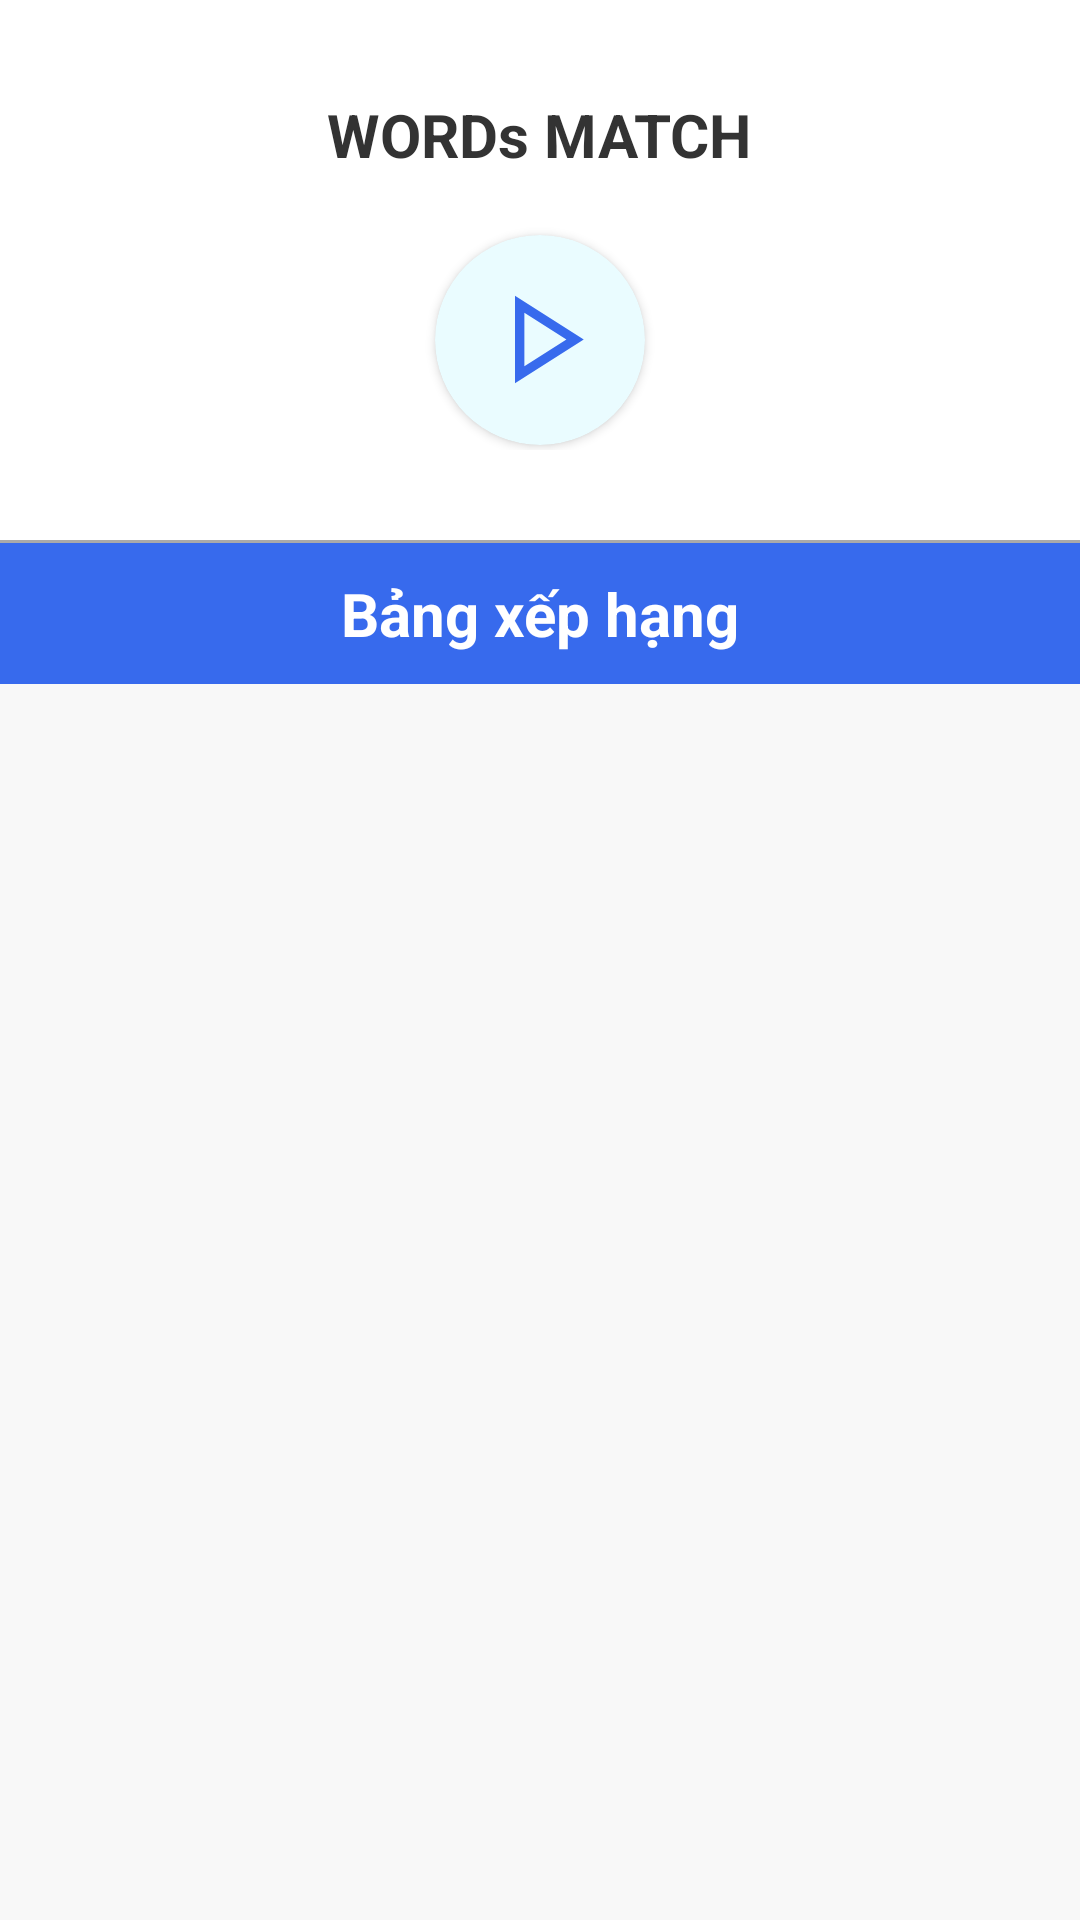

Icon bounding boxes for this 1080w x 1920h phone screenshot, format (x1, y1, x2, y2):
play: (515, 296, 584, 383)
